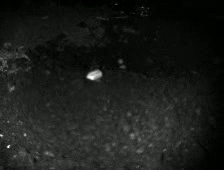corn: (84, 67, 105, 83), (117, 61, 128, 73), (115, 56, 125, 67)
